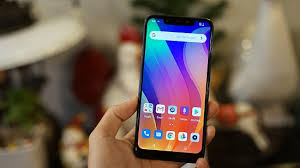vsmart: (131, 14, 214, 161)
